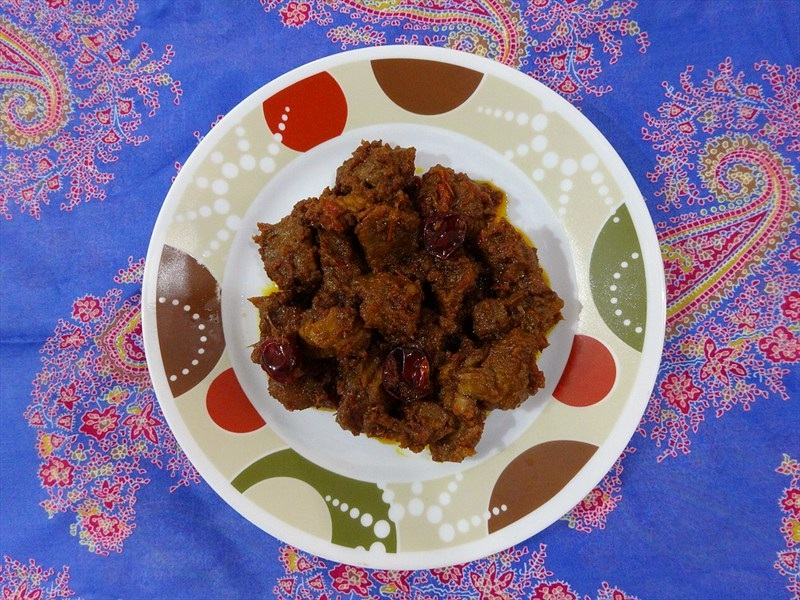Rendang: (132, 44, 678, 546)
